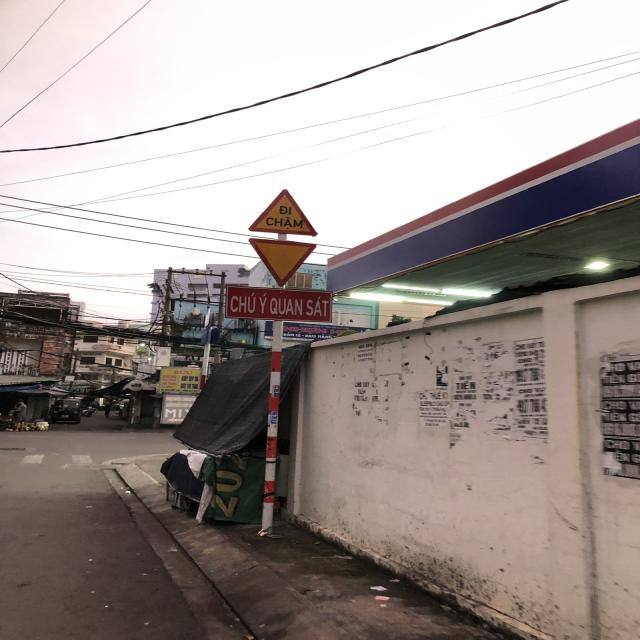Bien bao di cham: (240, 184, 332, 238)
Bien bao giao nhau voi duong uu tien: (241, 235, 326, 290)
